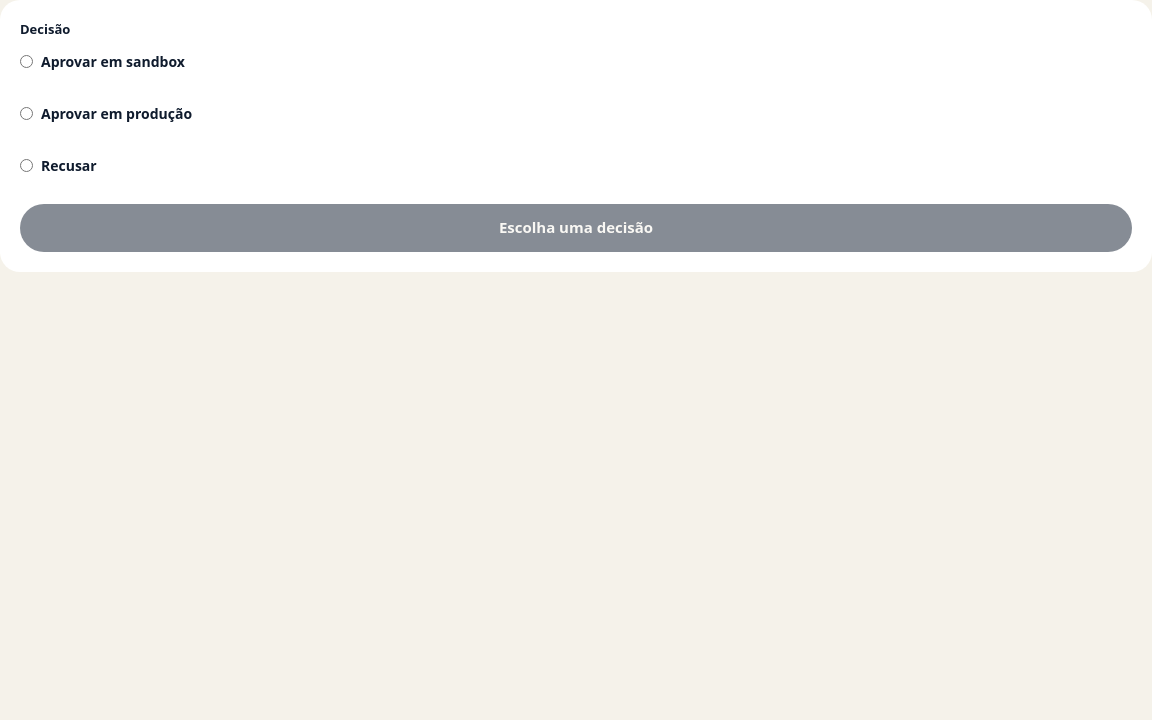
Scenario: DecisionForm — padrões de campo › parceiro sem cobertura nem plano definidos ainda (nunca decidido): cai no padrão nacional e no placeholder do plano
Click the radio button labelled "Aprovar em sandbox" at (26, 62), box [20,55,33,68]
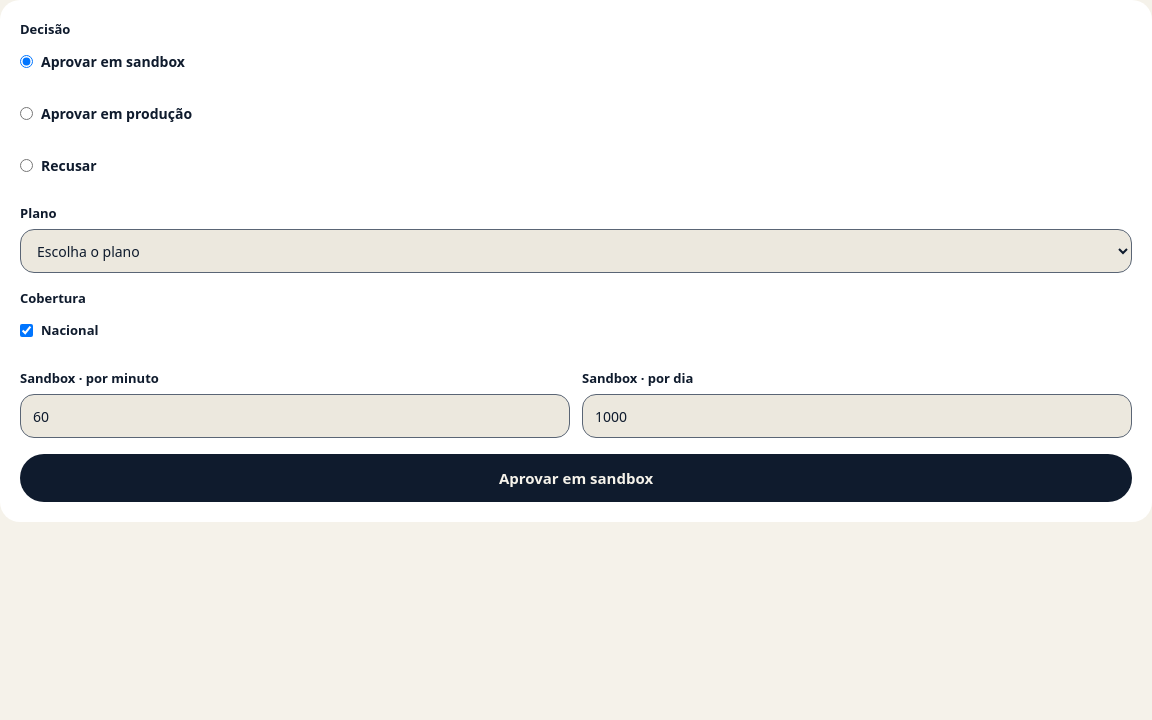
Result: the checkbox labelled "Nacional" is checked at [20,324,33,337]
Result: the dropdown labelled "Plano" shows "Escolha o plano" at [20,229,1132,273]
